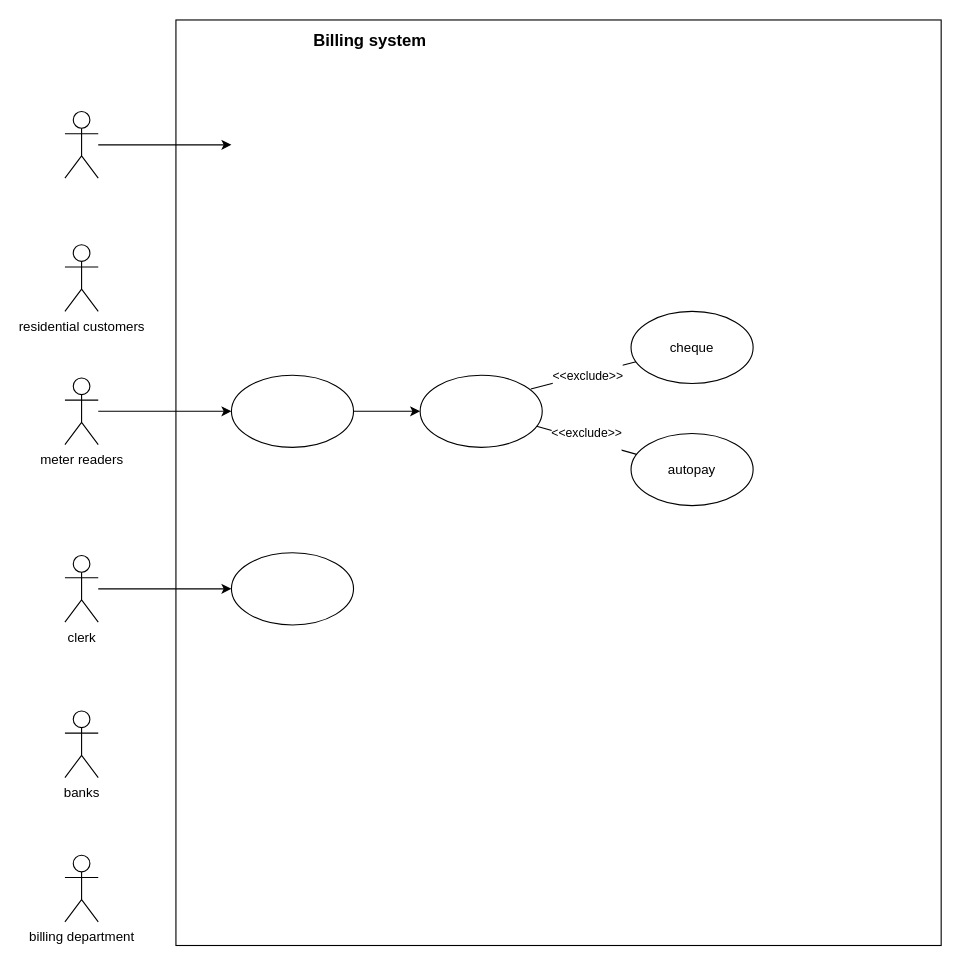
Some shapes in this 961 by 965 pixel diagram are drawn without their labels. The centre of each missing label's shape, as x and y in pixels:
business customers: pixel 81 144
prepare bill: pixel 480 410
Read Meter: pixel 292 410
record payment: pixel 292 588
